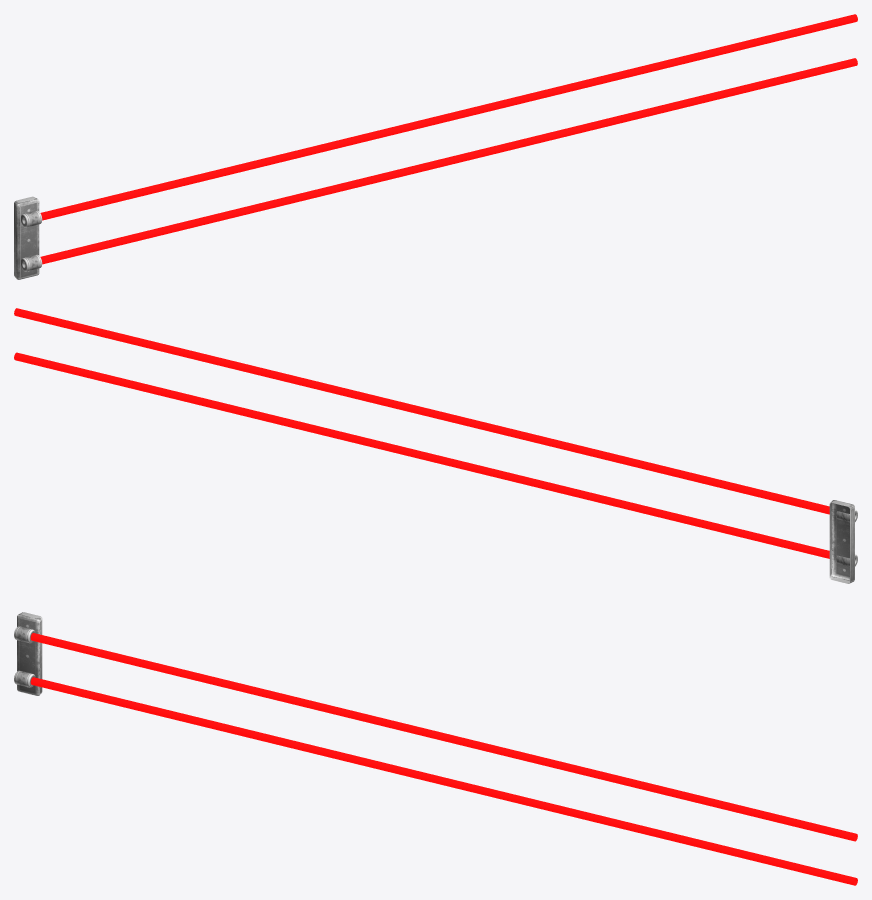
File: SM_neon_straight_1_019.fbx
The picture shows the model from 3 angles, top to bottom: view 1: azimuth 30°, elevation 25°; view 2: azimuth 150°, elevation 25°; view 3: azimuth 330°, elevation 25°; orthographic projection.
Parts seen in each view (by area): view 1: SM_Update_neon_straight_1_019_v001; view 2: SM_Update_neon_straight_1_019_v001; view 3: SM_Update_neon_straight_1_019_v001.
Part boxes in pixels (x1,y1,x2,y2): SM_Update_neon_straight_1_019_v001: [14, 14, 857, 279]; SM_Update_neon_straight_1_019_v001: [14, 308, 857, 583]; SM_Update_neon_straight_1_019_v001: [14, 612, 857, 885].
Size of the model in its own units: 3.02 by 0.264 by 0.0674.
Materials: 1 (1 with a texture image).
